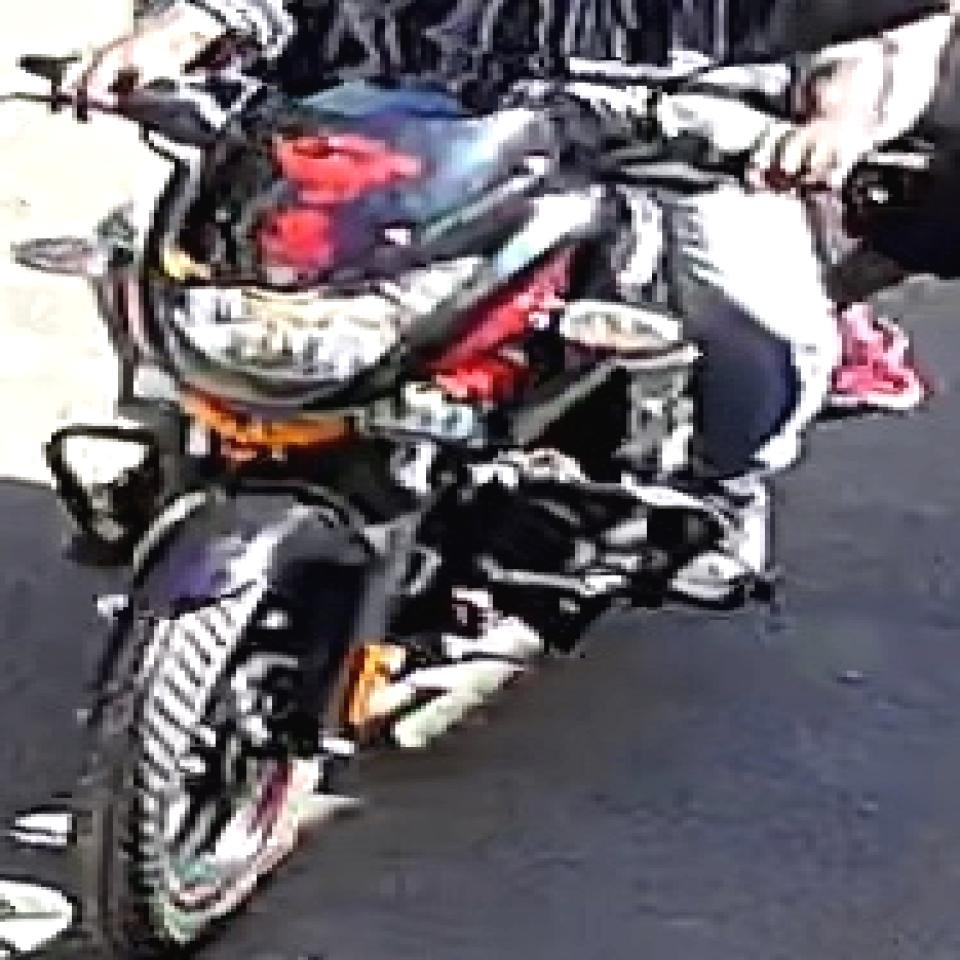head_light: (166, 285, 417, 385)
